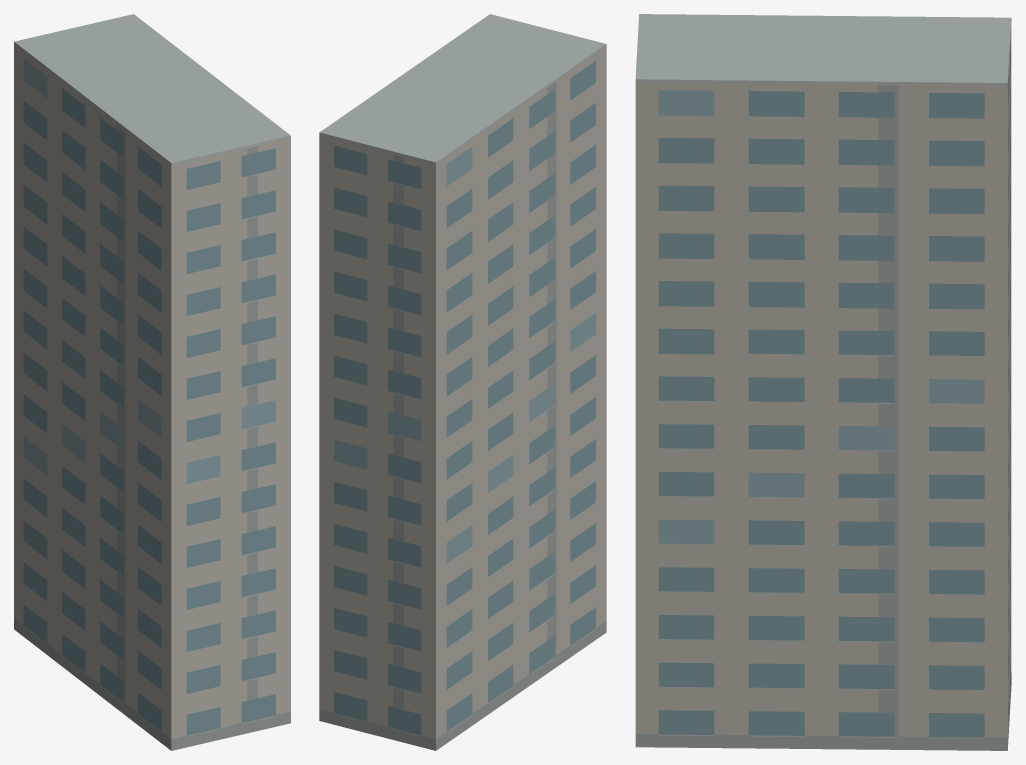
File: residential-e764441a-d2c2-4552-9f09-be4bf77b1ed0.glb
3 renders of one model, left to right at view 1: azimuth 30°, elevation 25°; view 2: azimuth 150°, elevation 25°; view 3: azimuth 270°, elevation 25°, orthographic. The views are drawn at different scales.
Parts seen in each view (by area): view 1: residential-e764441a-d2c2-4552-9f09-be4bf77b1ed0.tmp; view 2: residential-e764441a-d2c2-4552-9f09-be4bf77b1ed0.tmp; view 3: residential-e764441a-d2c2-4552-9f09-be4bf77b1ed0.tmp.
Part boxes in pixels (x1,y1,x2,y2): residential-e764441a-d2c2-4552-9f09-be4bf77b1ed0.tmp: (14, 14, 290, 750); residential-e764441a-d2c2-4552-9f09-be4bf77b1ed0.tmp: (319, 14, 606, 750); residential-e764441a-d2c2-4552-9f09-be4bf77b1ed0.tmp: (635, 14, 1011, 750).
Size of the model in its own units: 9.77 by 44 by 22.45.
